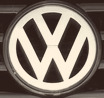Volkswagen: (5, 3, 98, 95)
